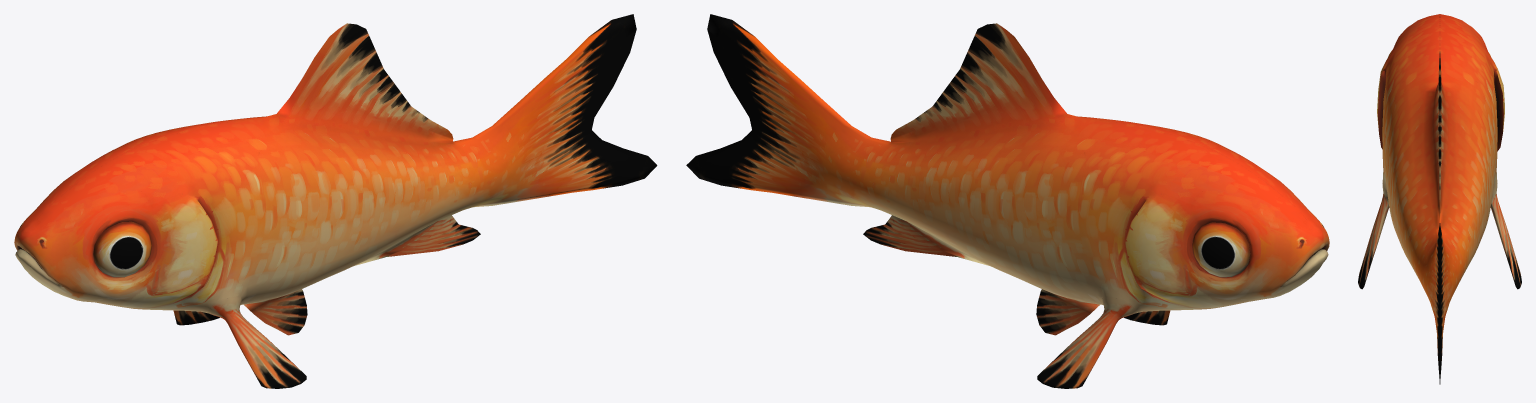
Rendered from Goldfish.fbx.
The picture shows the model from 3 angles, left to right: view 1: azimuth 30°, elevation 25°; view 2: azimuth 150°, elevation 25°; view 3: azimuth 270°, elevation 25°; orthographic projection. The views are drawn at different scales.
Parts seen in each view (by area): view 1: p_GoldFish; view 2: p_GoldFish; view 3: p_GoldFish.
Part boxes in pixels (x1,y1,x2,y2): p_GoldFish: (14,14,657,388); p_GoldFish: (686,14,1329,388); p_GoldFish: (1358,14,1521,384).
Size of the model in its own units: 11.99 by 5.52 by 2.93.
